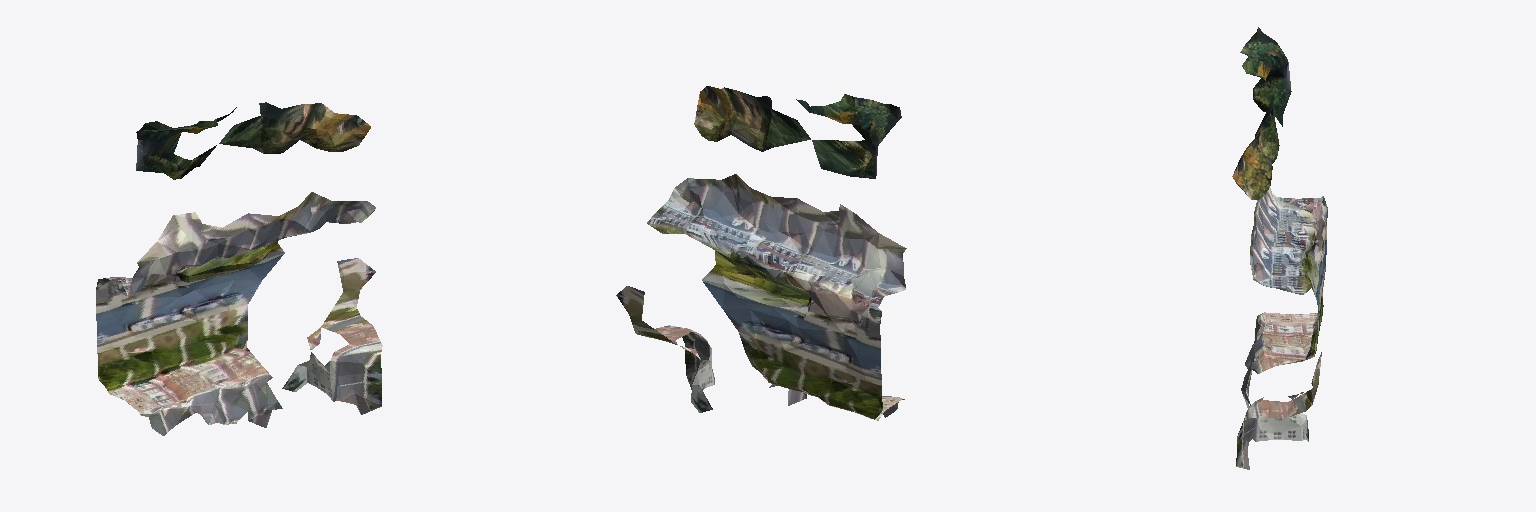
The picture shows the model from 3 angles: view 1: azimuth 30°, elevation 25°; view 2: azimuth 150°, elevation 25°; view 3: azimuth 270°, elevation 25°; orthographic projection.
Size of the model in its own units: 70.99 by 84.86 by 21.56.
Materials: 1 (1 with a texture image).